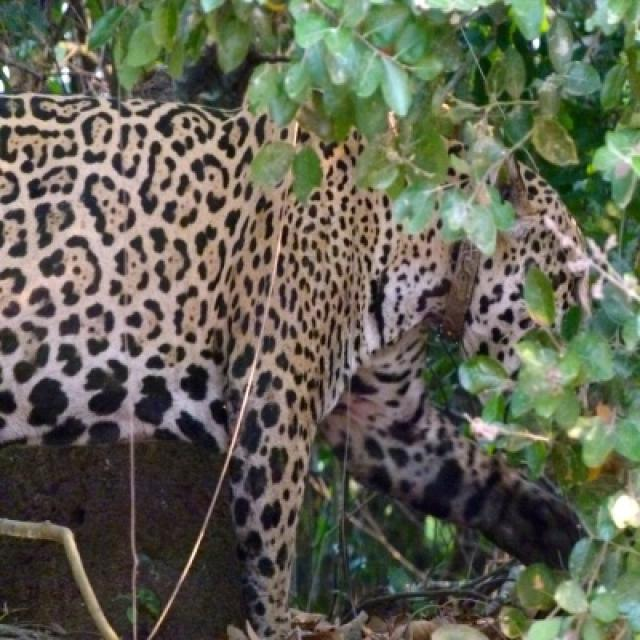Jaguar: (0, 94, 638, 638)
